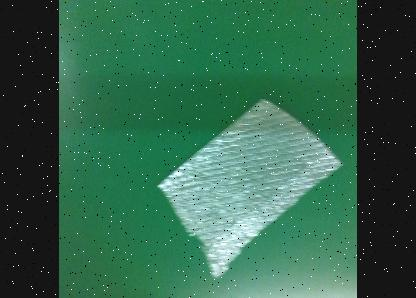Others: (160, 97, 343, 277)
